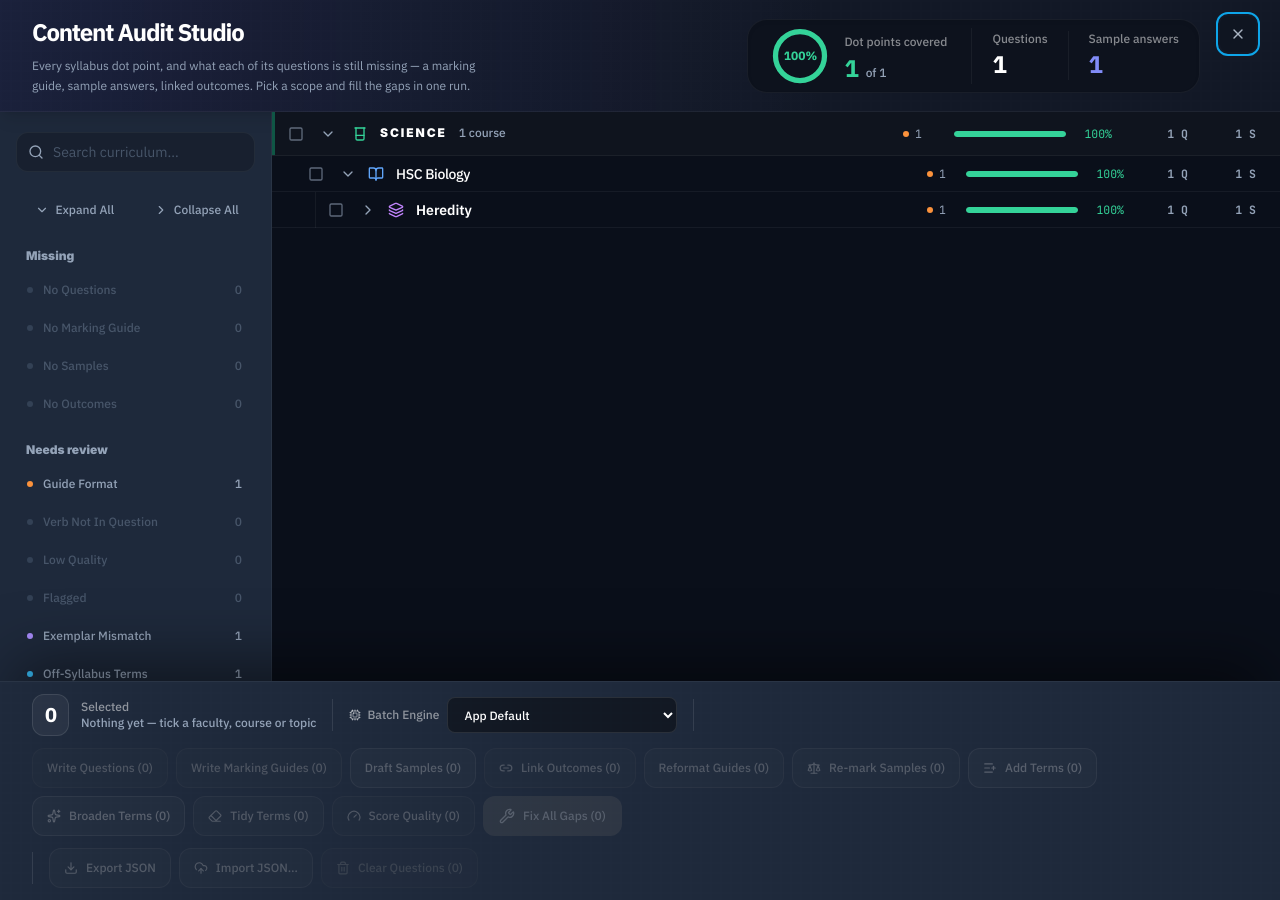
it: the studio offers a repair for both › enables the guide buttons for a run-together guide
This screenshot has width=1280, height=900.
Click the button named "Select HSC Biology": (316, 174) left=308, top=166, right=324, bottom=182
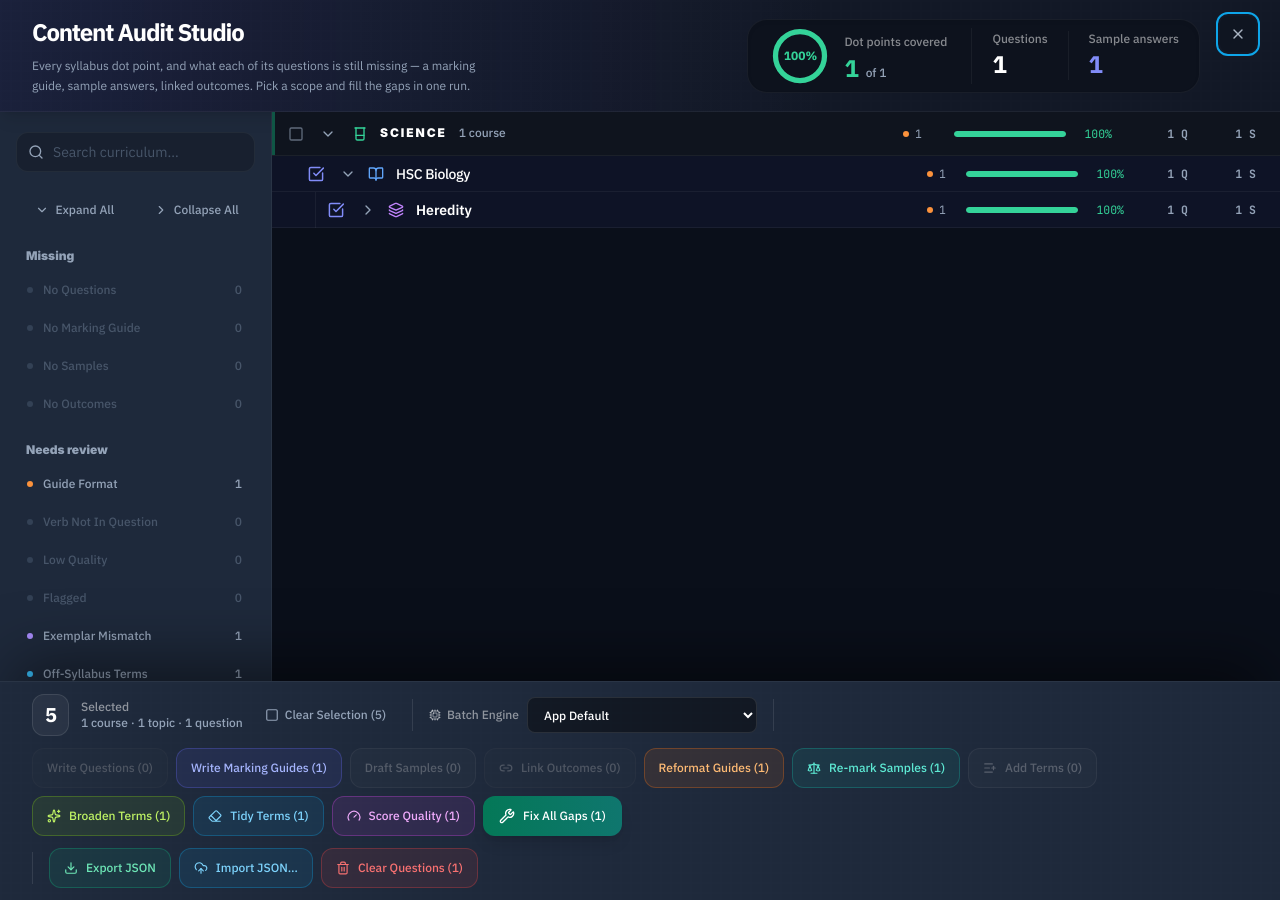
Check: the button "Reformat Guides (1)" is enabled, box left=644, top=748, right=784, bottom=788
Check: the button "Write Marking Guides (1)" is enabled, box left=176, top=748, right=342, bottom=788
